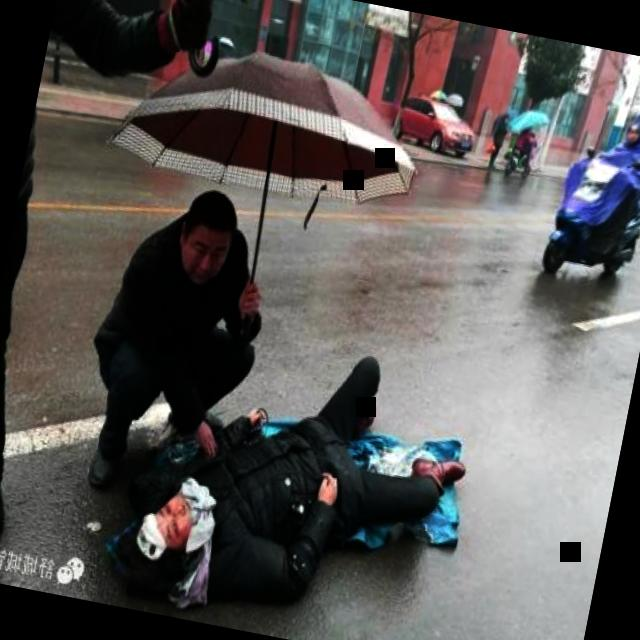Fall-Detected: (95, 308, 490, 640)
